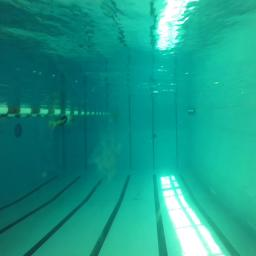Full: (188, 108, 195, 114), (153, 134, 156, 136)
